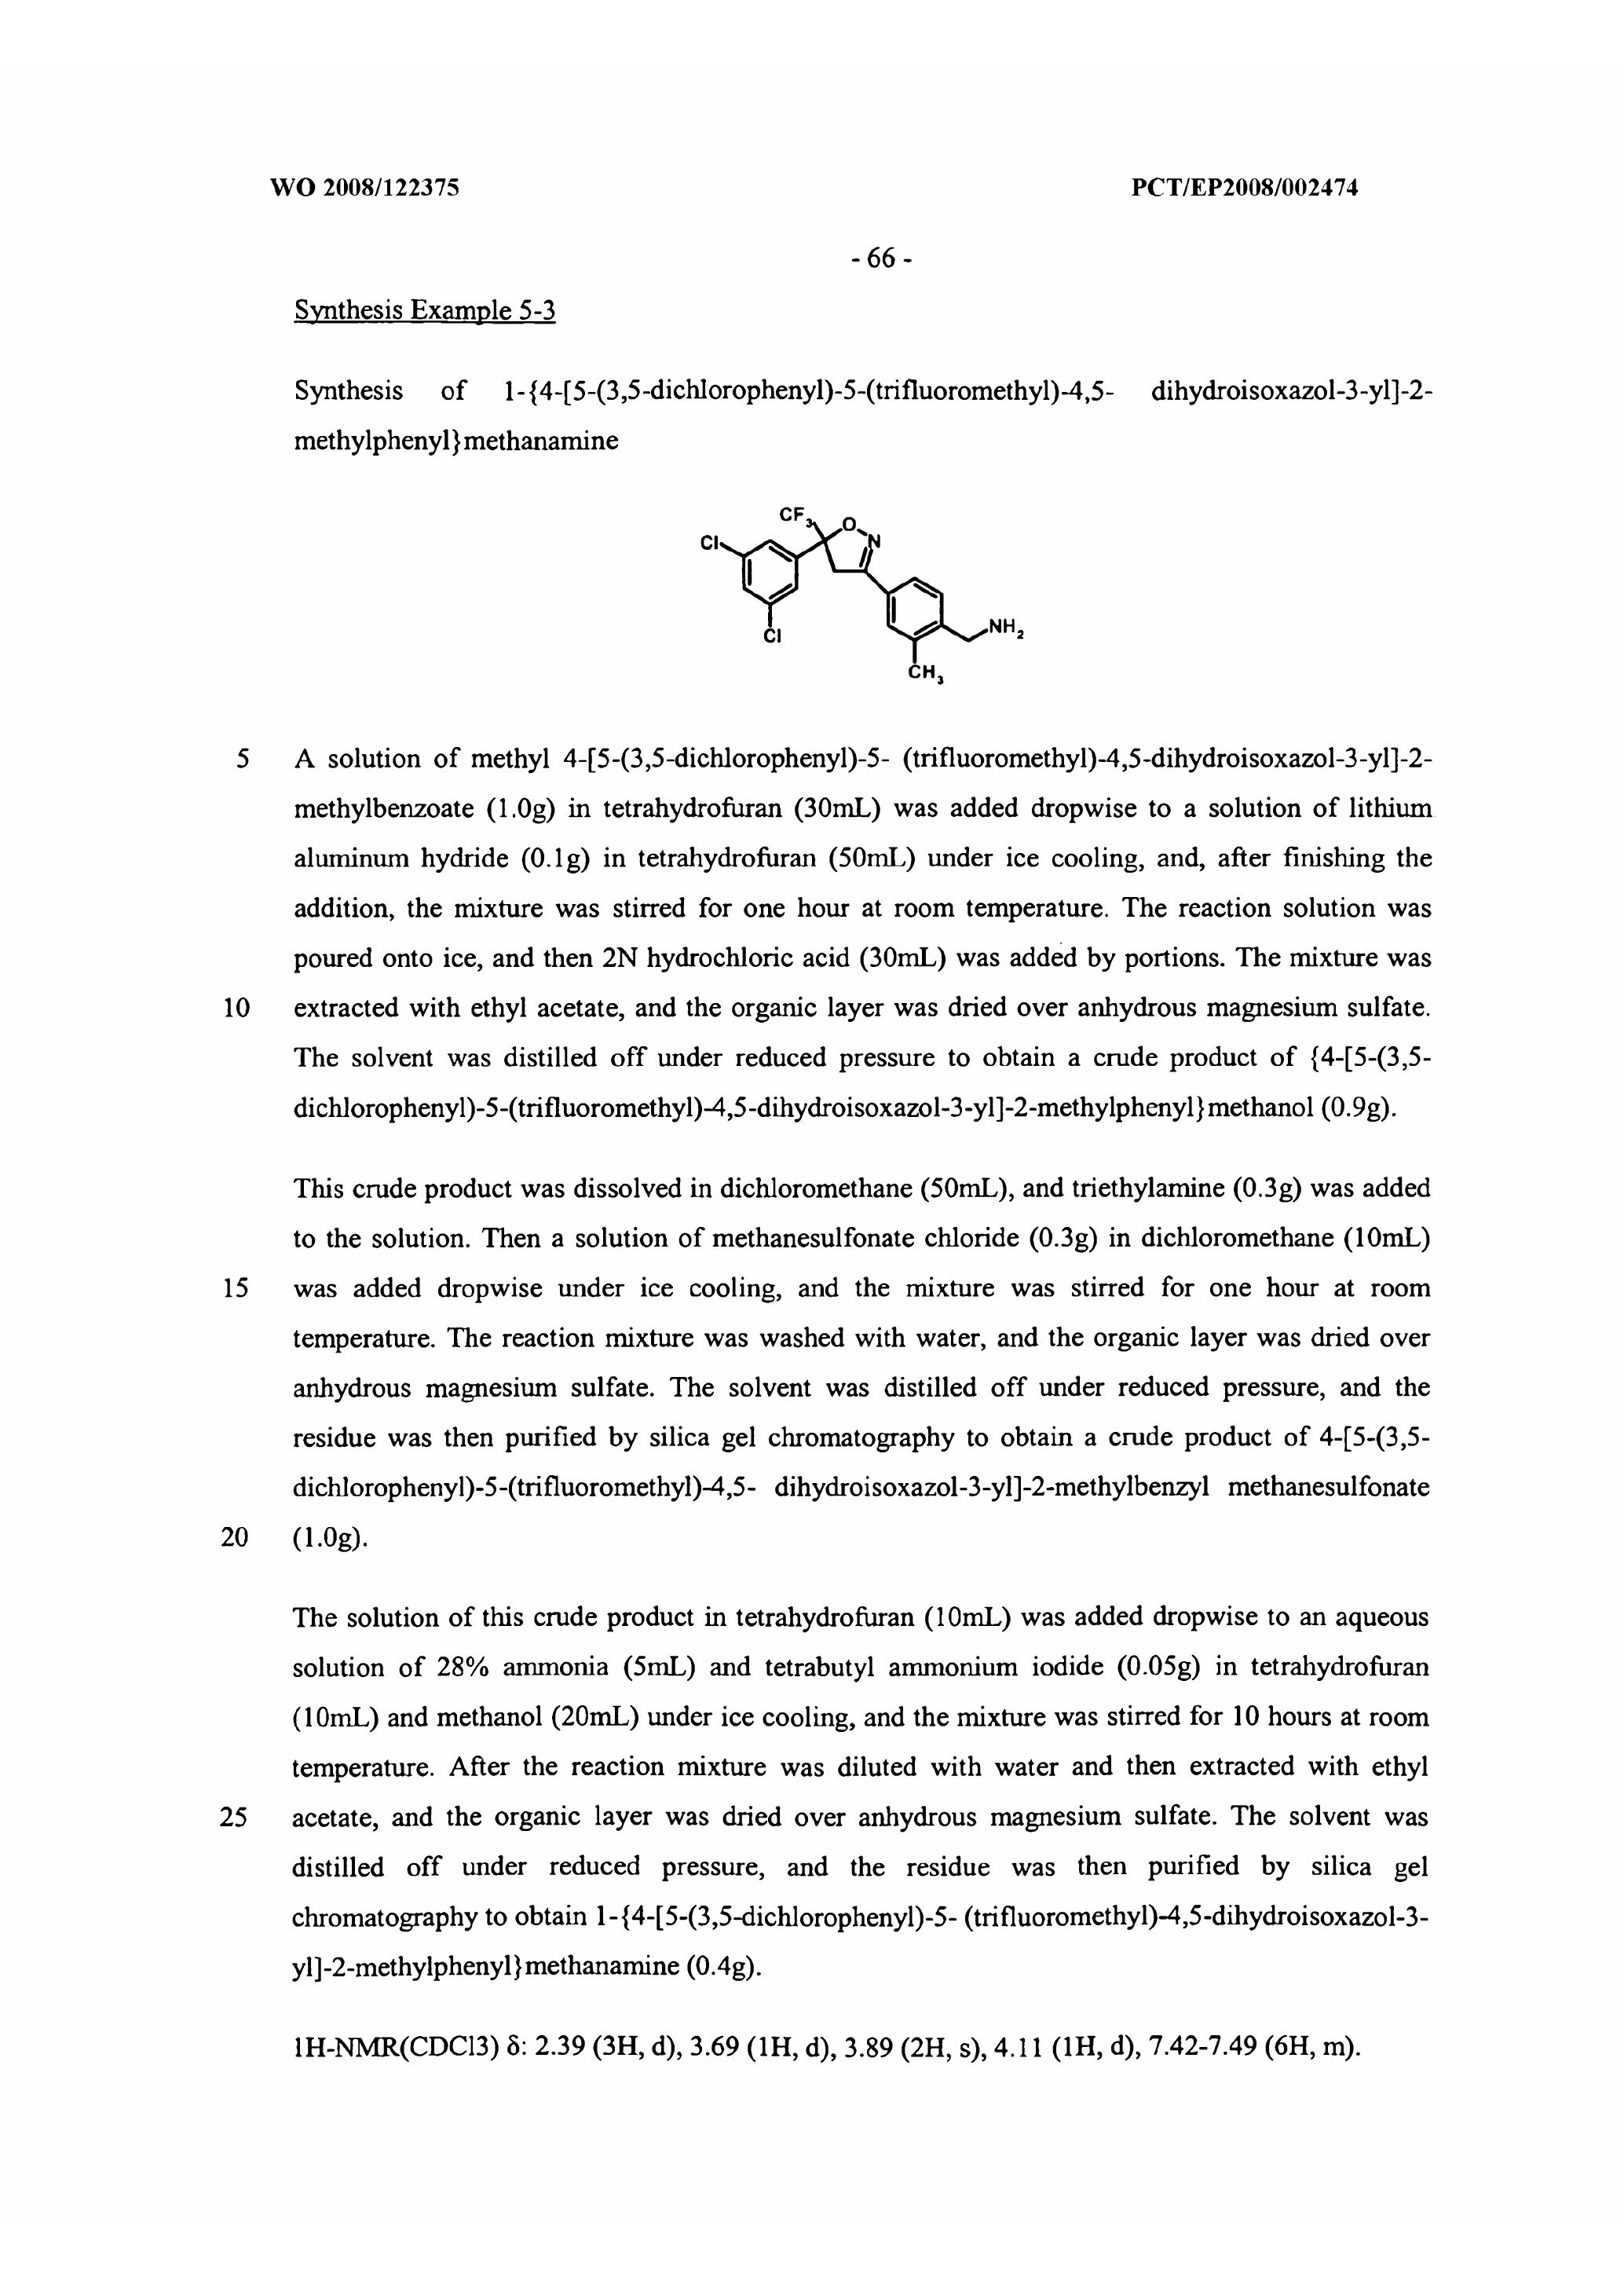relevant-structures: (677, 429, 1111, 701)
